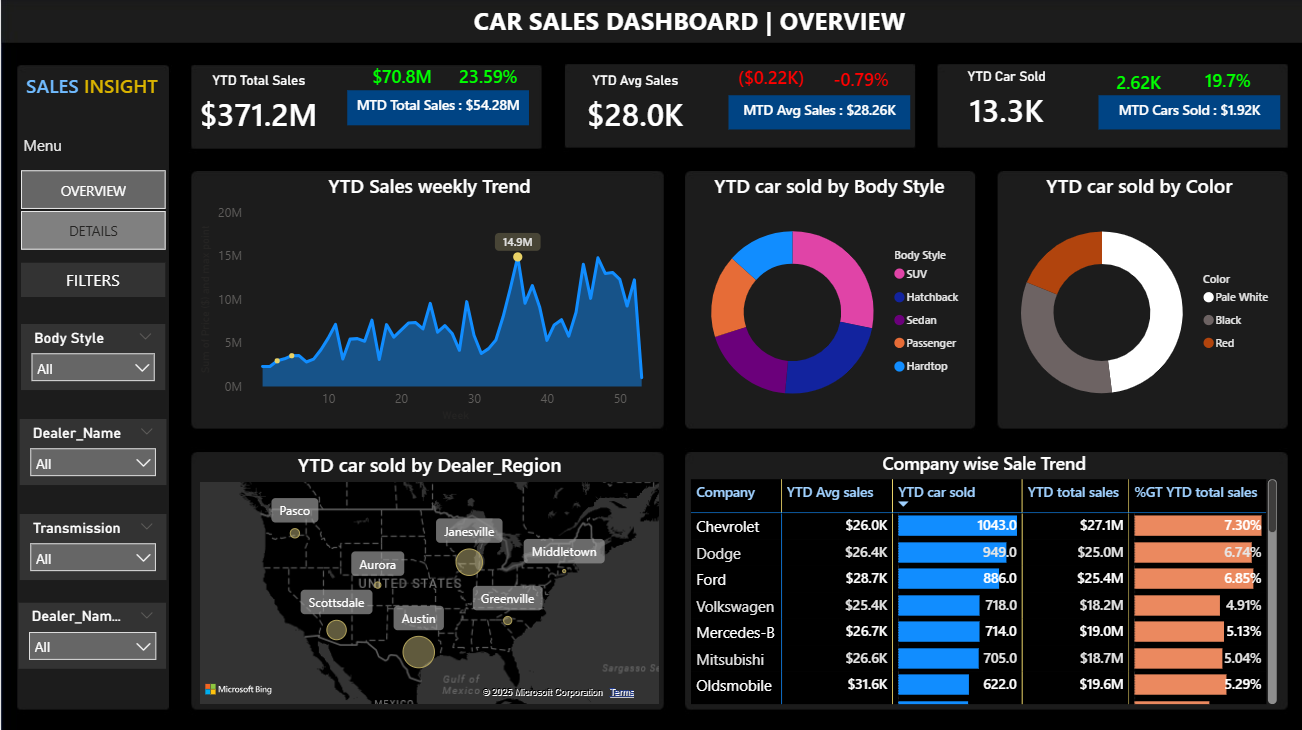

What the dashboard file says about the page in this screenshot:
{"tool":"powerbi","page":{"name":"OVERVIEW","canvas":[1280,720],"ordinal":0},"visuals":[{"type":"card","title":"YTD Total Sales","fields":{"Values":["car_data.YTD total sales"]},"box":[190,72.9,125.7,67.2],"z":0},{"type":"card","fields":{"Values":["car_data.Sales difference"]},"box":[360,61.4,68.6,32.9],"z":1000},{"type":"card","fields":{"Values":["car_data.YoY sales growth"]},"box":[444.3,61.4,68.6,32.9],"z":2000},{"type":"card","title":"YTD Total Sales","fields":{"Values":["car_data.MTD KPI"]},"box":[340,90,178.6,34.3],"z":3000},{"type":"card","title":"YTD Avg Sales","fields":{"Values":["car_data.YTD Avg sales"]},"box":[560,72.5,126.2,67.5],"z":4000},{"type":"card","fields":{"Values":["car_data.Avg Price diff"]},"box":[710,65,91.2,28.8],"z":5000},{"type":"card","fields":{"Values":["car_data.YoY Avg Price Growth"]},"box":[798.8,66.2,91.2,28.8],"z":6000},{"type":"card","title":"YTD Total Sales","fields":{"Values":["car_data.MTD Avg Price KPI"]},"box":[713.8,95,178.8,33.8],"z":7000},{"type":"card","title":"YTD Car Sold","fields":{"Values":["car_data.YTD car sold"]},"box":[923.8,68.8,126.2,67.5],"z":8000},{"type":"card","fields":{"Values":["car_data.Cars Sold diff"]},"box":[1071.2,68.8,91.2,31.2],"z":9000},{"type":"card","fields":{"Values":["car_data.YoY car sold growth"]},"box":[1162.5,66.2,85,31.2],"z":10000},{"type":"card","title":"YTD Total Sales","fields":{"Values":["car_data.MTD Cars sold KPI"]},"box":[1077.5,95,178.8,33.8],"z":11000},{"type":"areaChart","title":"YTD Sales weekly Trend","fields":{"Category":["Calendar Table.Week"],"Y":["Sum(car_data.Price ($))","car_data.max point"]},"box":[190.7,170.2,461.1,249.7],"z":12000},{"type":"donutChart","fields":{"Category":["car_data.Body Style"],"Y":["car_data.YTD car sold"]},"box":[672.4,170.2,281.3,249.7],"z":13000},{"type":"donutChart","fields":{"Y":["car_data.YTD car sold"],"Category":["car_data.Color"]},"box":[977,170.2,281.3,249.7],"z":14000},{"type":"map","fields":{"Category":["car_data.Dealer_Region"],"Size":["car_data.YTD car sold"]},"box":[190.2,444.2,461.4,252.8],"z":15000},{"type":"pivotTable","title":"Company wise Sale Trend","fields":{"Values":["car_data.YTD Avg sales","car_data.YTD car sold","car_data.YTD total sales1","car_data.YTD total sales"],"Rows":["car_data.Company"]},"box":[672.4,444.2,585.3,252.8],"z":16000},{"type":"textbox","box":[420.9,0,510.4,47.9],"z":17000},{"type":"slicer","fields":{"Values":["car_data.Body Style"]},"box":[20,318.8,141.2,65],"z":18000},{"type":"slicer","fields":{"Values":["car_data.Dealer_Name"]},"box":[18.8,412.5,143.8,65],"z":19000},{"type":"slicer","fields":{"Values":["car_data.Dealer_Name","car_data.Engine"]},"box":[17.5,592.5,145,65],"z":20000},{"type":"slicer","fields":{"Values":["car_data.Transmission"]},"box":[18.8,505,143.8,65],"z":21000},{"type":"textbox","box":[20,258.8,141.2,33.8],"z":22000},{"type":"textbox","box":[20,67.5,145,38.8],"z":22001},{"type":"textbox","box":[17.5,128.8,62.5,33.8],"z":22002},{"type":"pageNavigator","box":[20,167.5,142.5,78.8],"z":22003}]}

Visuals, with their boxes in screenshot pixels (x1, y1, x2, y2), scaled from the page's 1280x720 canvas onto the 1302x730 screenshot:
"YTD Total Sales" card: 193/74/321/142
card - car_data.Sales difference: 366/62/436/96
card - car_data.YoY sales growth: 452/62/522/96
"YTD Total Sales" card: 346/91/528/126
"YTD Avg Sales" card: 570/74/698/142
card - car_data.Avg Price diff: 722/66/815/95
card - car_data.YoY Avg Price Growth: 813/67/905/96
"YTD Total Sales" card: 726/96/908/131
"YTD Car Sold" card: 940/70/1068/138
card - car_data.Cars Sold diff: 1090/70/1182/101
card - car_data.YoY car sold growth: 1182/67/1269/99
"YTD Total Sales" card: 1096/96/1278/131
"YTD Sales weekly Trend" areaChart: 194/173/663/426
donutChart - car_data.Body Style x car_data.YTD car sold: 684/173/970/426
donutChart - car_data.YTD car sold x car_data.Color: 994/173/1280/426
map - car_data.Dealer_Region x car_data.YTD car sold: 193/450/663/707
"Company wise Sale Trend" pivotTable: 684/450/1279/707
textbox: 428/0/947/49
slicer - car_data.Body Style: 20/323/164/389
slicer - car_data.Dealer_Name: 19/418/165/484
slicer - car_data.Dealer_Name x car_data.Engine: 18/601/165/667
slicer - car_data.Transmission: 19/512/165/578
textbox: 20/262/164/297
textbox: 20/68/168/108
textbox: 18/131/81/165
pageNavigator: 20/170/165/250
